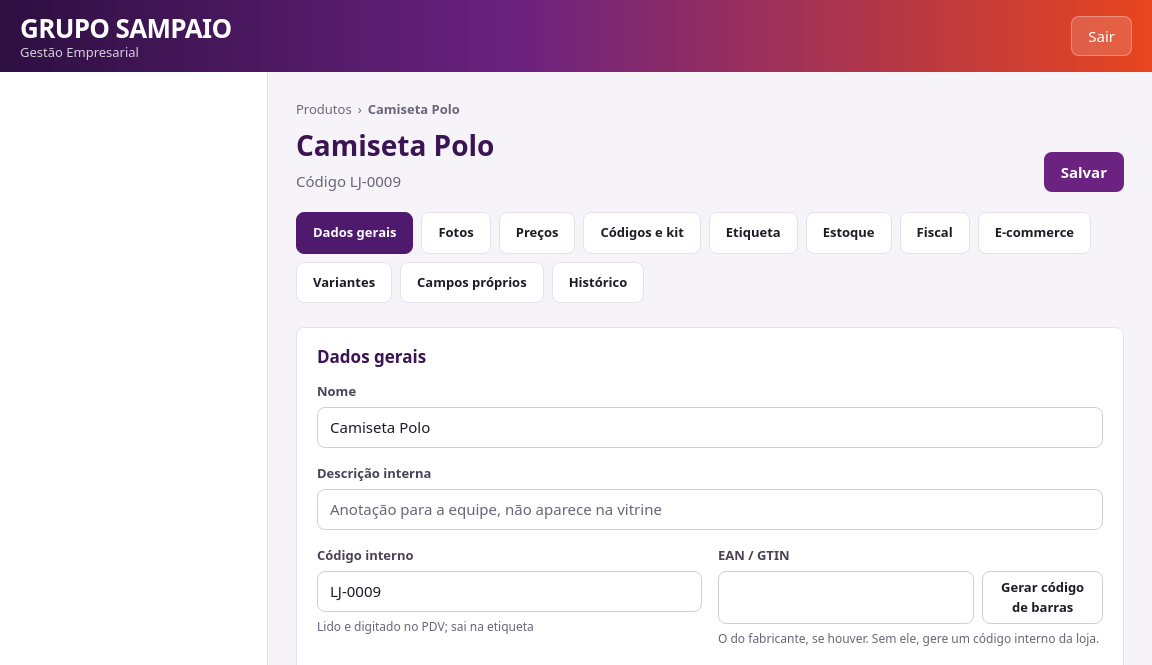
it: seletores no lugar de texto livre (A-produto-09, 10 e 26) › o grupo inativo que o produto JÁ tem aparece, marcado para ser trocado
Expected: the field showing "Camiseta Polo" is shown, [317,407,1103,448]
What coordinates should you click on to do the following:
click the tab "Fiscal"
I would click on:
 (935, 233)
Its box is [900,212,970,254].
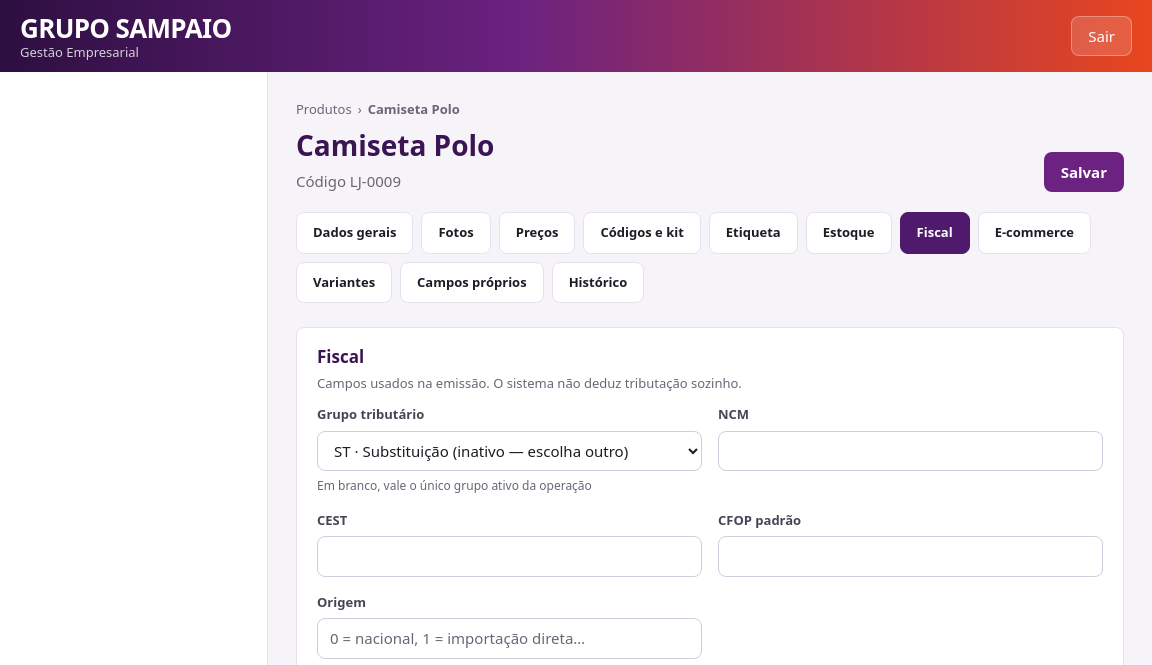
Expected: the dropdown labelled "Grupo tributário" shows "ST · Substituição (inativo — escolha outro)", [317,430,702,470]
